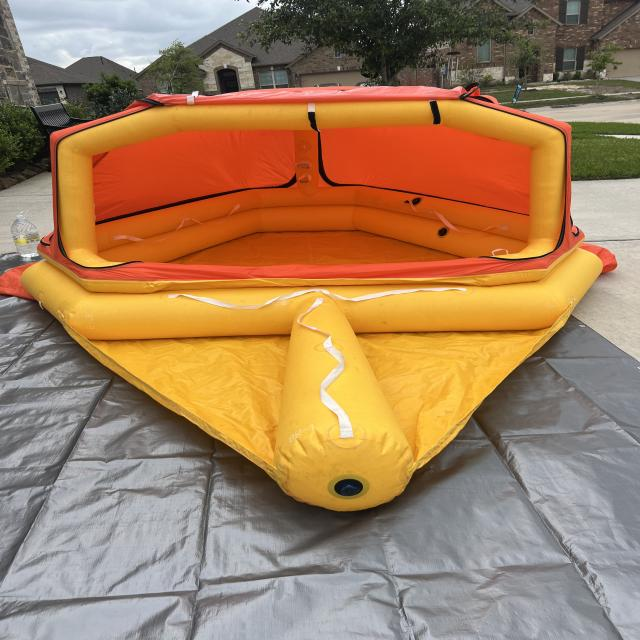Multi-person_life_raft: (0, 84, 618, 512)
